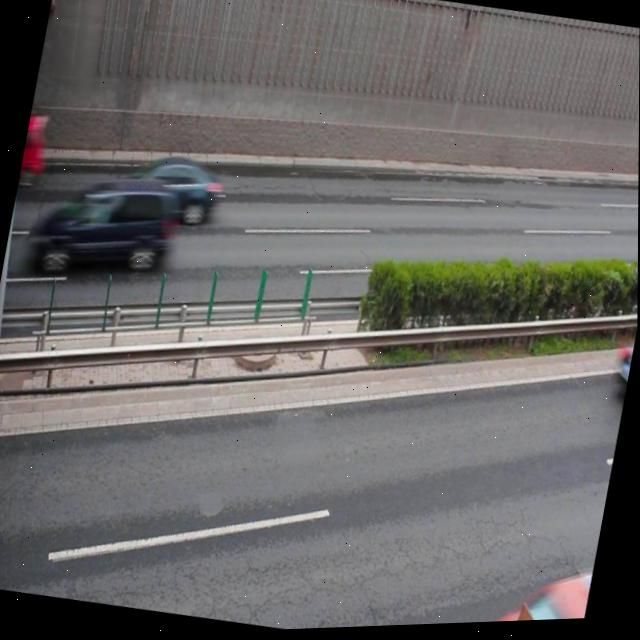car: (119, 149, 227, 233)
truck: (46, 163, 179, 290)
